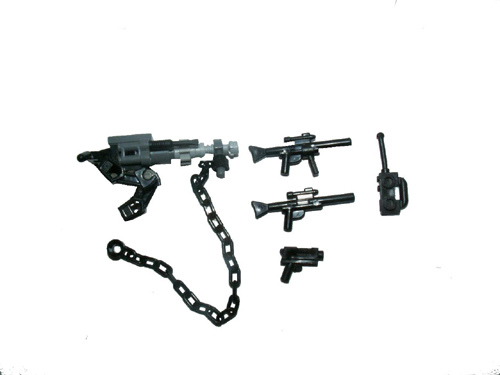pistol: (375, 125, 415, 243), (257, 243, 342, 289)
rifle: (66, 105, 244, 325), (259, 113, 362, 182), (254, 189, 362, 232)
